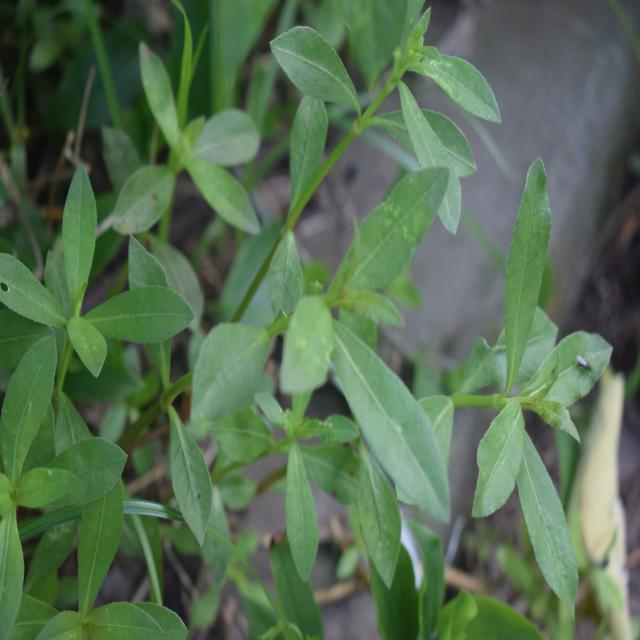Alligatorweed: (214, 201, 466, 506), (452, 138, 604, 594), (270, 0, 483, 285), (0, 178, 185, 438)
